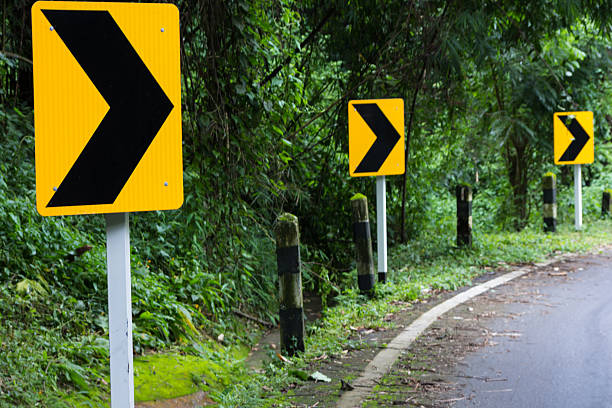right turn: (33, 1, 181, 209), (349, 100, 404, 174), (555, 112, 593, 165)
